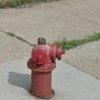Hydrant: (19, 27, 70, 100)
